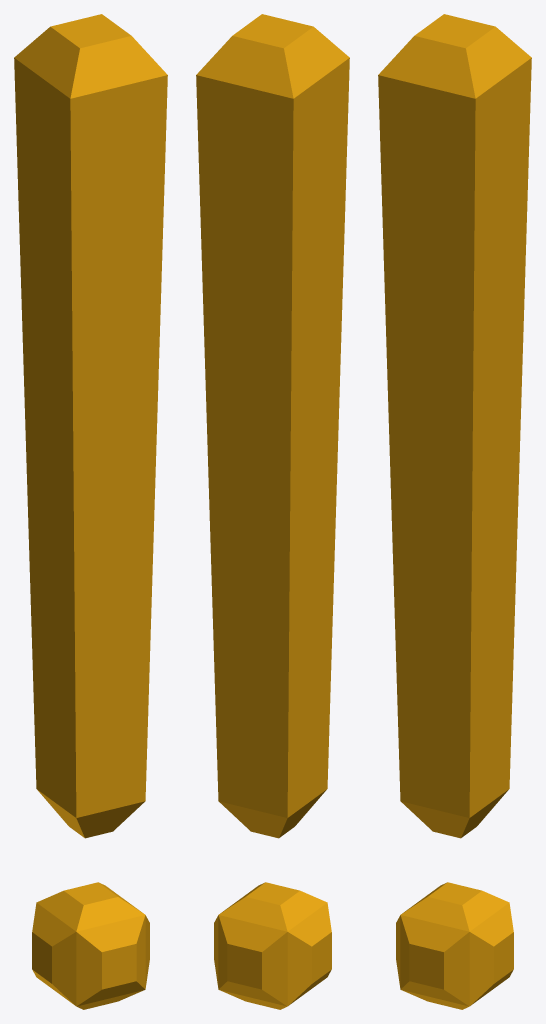
File: Exclamation Mark.fbx
3 views of the same model, side by side, from view 1: azimuth 30°, elevation 25°; view 2: azimuth 150°, elevation 25°; view 3: azimuth 330°, elevation 25° (orthographic).
Visible parts, largest first — view 1: Exclamation; view 2: Exclamation; view 3: Exclamation.
Part boxes in pixels (x1=…): Exclamation: x1=14, y1=14, x2=167, y2=1009; Exclamation: x1=196, y1=14, x2=349, y2=1009; Exclamation: x1=378, y1=14, x2=531, y2=1009.
Bounding box in the file's own units: 6.85 × 6.85 × 64.75.
